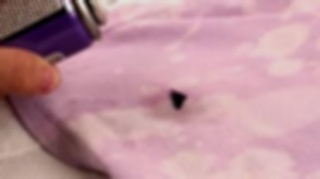ink: (167, 90, 187, 110)
